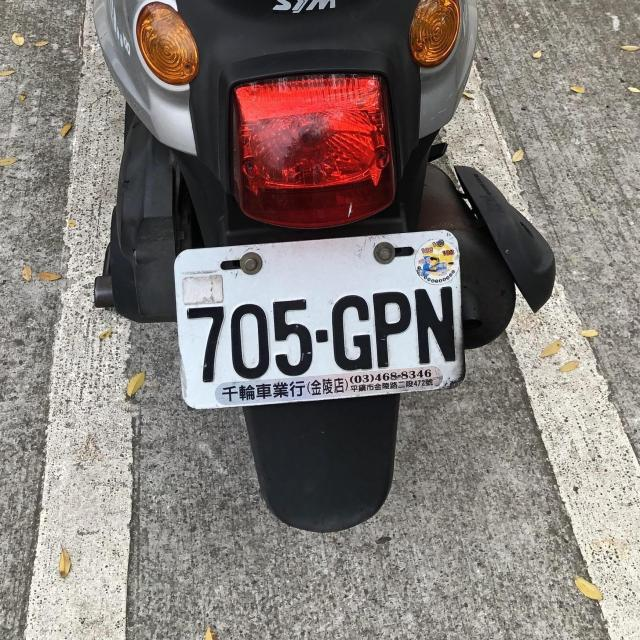W: (174, 228, 470, 416)
